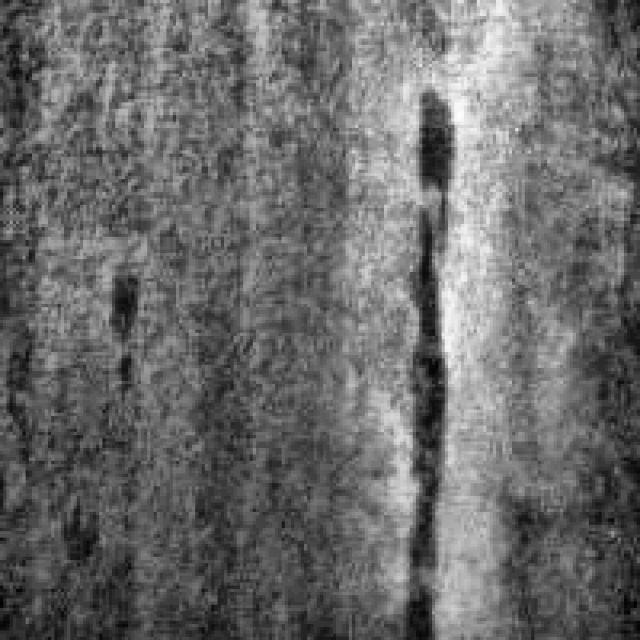Patches: (378, 176, 464, 634), (394, 73, 467, 304), (86, 249, 154, 406)
